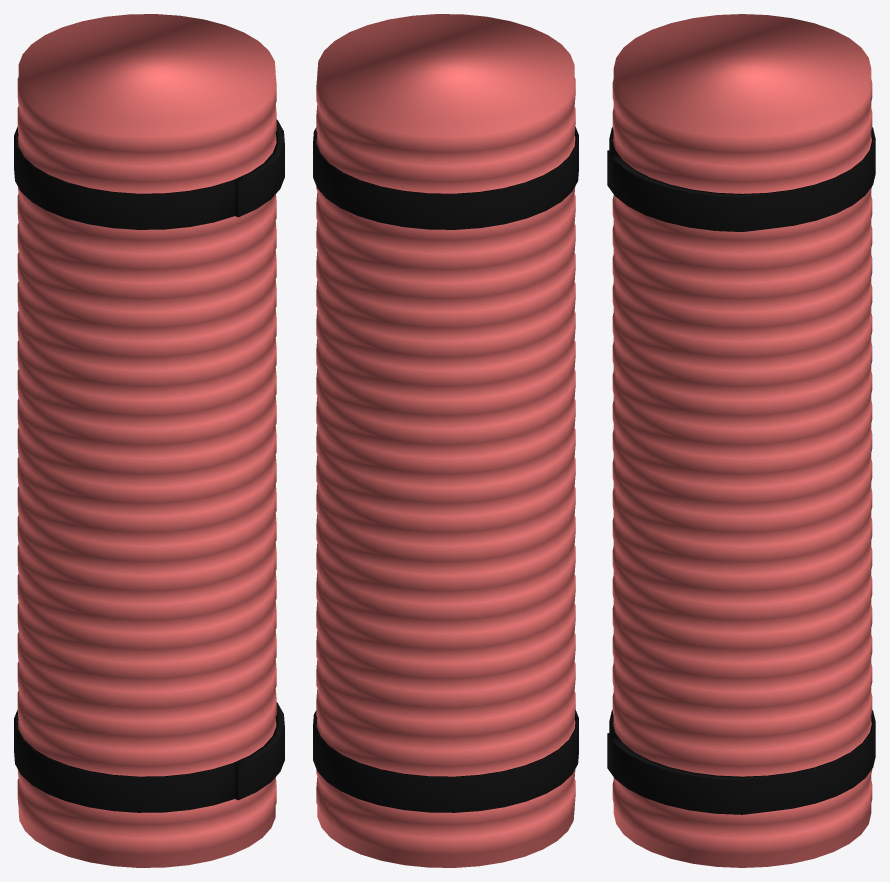
File: yogamate.glb
3 views of the same model, side by side, from view 1: azimuth 30°, elevation 25°; view 2: azimuth 150°, elevation 25°; view 3: azimuth 270°, elevation 25° (orthographic).
Parts seen in each view (by area): view 1: Cylinder_4, Cylinder.003_6, Cylinder.001_5; view 2: Cylinder_4, Cylinder.003_6, Cylinder.001_5; view 3: Cylinder_4, Cylinder.001_5, Cylinder.003_6.
Part boxes in pixels (x1,y1,x2,y2): Cylinder_4: (17, 14, 276, 867); Cylinder.003_6: (14, 702, 284, 812); Cylinder.001_5: (14, 119, 284, 229); Cylinder_4: (316, 14, 575, 867); Cylinder.003_6: (313, 709, 578, 812); Cylinder.001_5: (313, 126, 578, 229); Cylinder_4: (612, 14, 872, 867); Cylinder.001_5: (607, 127, 875, 231); Cylinder.003_6: (607, 710, 875, 814).
Bounding box in the file's own units: 0.2012 × 0.61 × 0.1992.
